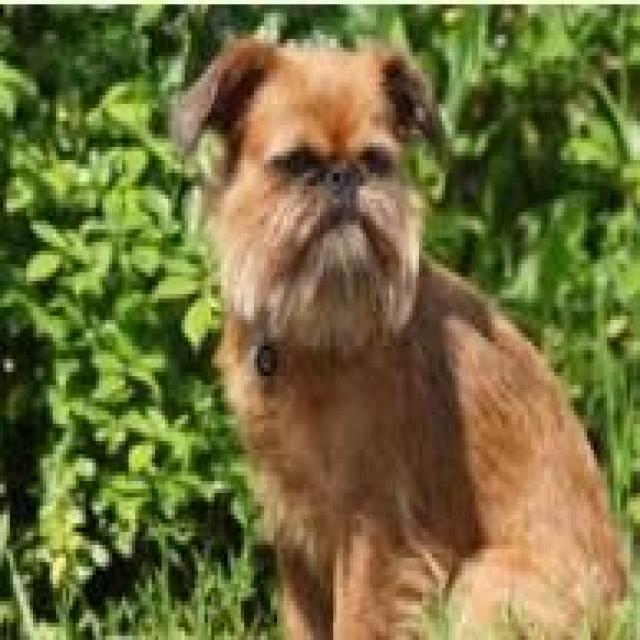Perro: (172, 26, 636, 640)
